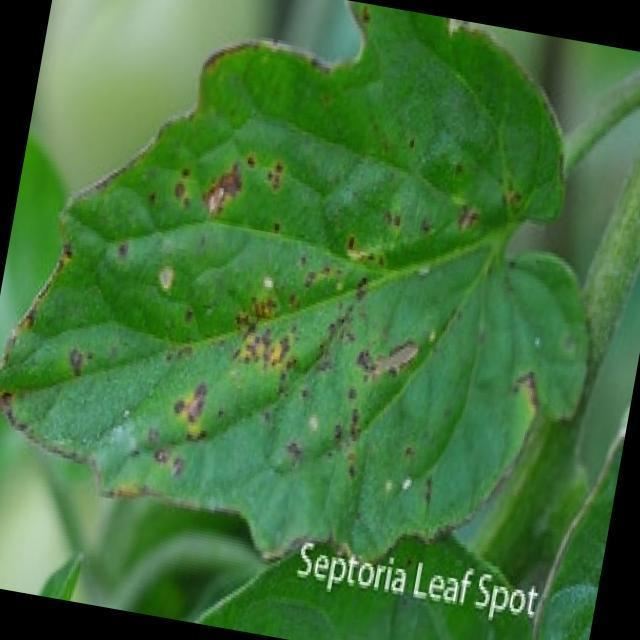Septoria: (0, 28, 558, 554)
